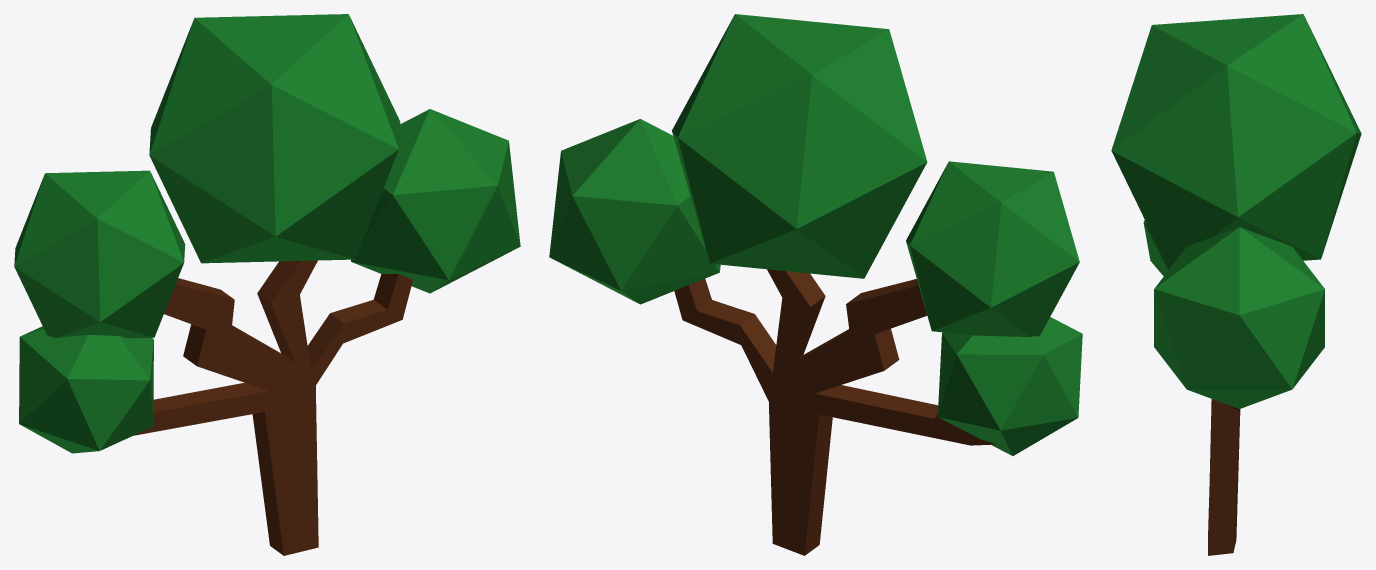
Rendered from TreeNew.fbx.
3 renders of one model, left to right at view 1: azimuth 30°, elevation 25°; view 2: azimuth 150°, elevation 25°; view 3: azimuth 270°, elevation 25°, orthographic. The views are drawn at different scales.
Visible parts, largest first — view 1: Tree; view 2: Tree; view 3: Tree.
Boxes of the visible parts, left/top/right/bottom form: Tree: left=14, top=14, right=520, bottom=555; Tree: left=549, top=14, right=1082, bottom=555; Tree: left=1111, top=14, right=1361, bottom=555.
Size of the model in its own units: 206 by 201 by 89.46.
